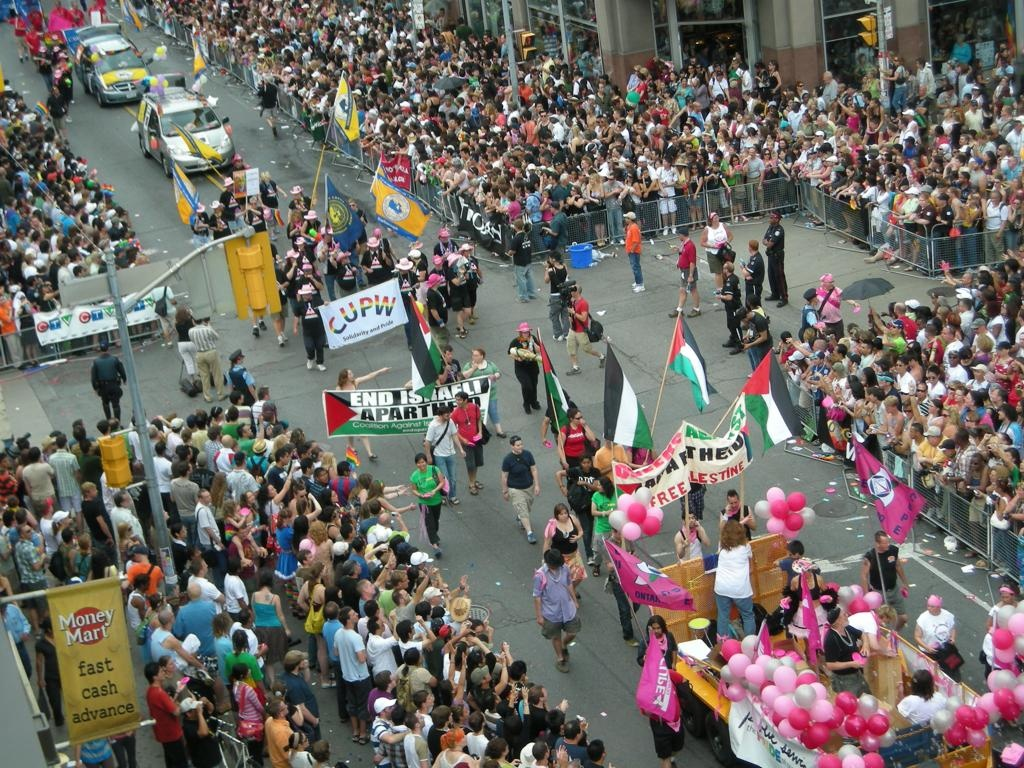human_face: (294, 731, 310, 749), (198, 558, 212, 578), (363, 580, 379, 596), (266, 482, 280, 500), (984, 432, 1000, 446), (296, 656, 310, 672), (351, 562, 365, 578), (200, 491, 214, 507), (155, 664, 167, 682), (178, 523, 190, 541), (406, 620, 416, 640), (190, 548, 204, 562), (317, 470, 331, 484), (926, 370, 938, 386), (240, 666, 252, 682), (246, 610, 258, 626), (384, 700, 394, 718), (382, 546, 392, 564), (574, 410, 584, 427), (650, 624, 662, 638), (998, 44, 1010, 58), (320, 744, 332, 758), (121, 492, 133, 506), (348, 608, 360, 622), (398, 573, 410, 587), (298, 489, 310, 503), (820, 155, 832, 169), (459, 705, 471, 719), (594, 479, 604, 495), (903, 404, 913, 420), (962, 390, 972, 406), (127, 548, 137, 564), (474, 624, 484, 640), (513, 438, 523, 454), (231, 503, 241, 519), (1002, 450, 1010, 468), (400, 590, 412, 602), (302, 552, 314, 564), (242, 425, 254, 437), (415, 458, 427, 470), (838, 610, 848, 624), (686, 514, 696, 528), (558, 508, 568, 522), (908, 425, 918, 439), (962, 415, 972, 429), (997, 408, 1007, 422), (988, 390, 998, 404), (916, 384, 926, 398), (972, 368, 982, 382), (947, 354, 957, 368), (940, 328, 950, 342), (924, 318, 934, 332), (889, 322, 899, 336), (856, 342, 866, 356), (830, 345, 840, 359), (988, 482, 998, 496), (278, 702, 288, 716), (165, 658, 175, 672), (188, 706, 198, 720), (141, 577, 151, 591), (414, 712, 424, 726), (386, 672, 396, 686), (317, 565, 327, 579), (420, 558, 430, 572), (328, 488, 338, 502), (186, 447, 196, 461), (344, 369, 354, 383), (719, 262, 729, 276), (924, 160, 934, 174), (715, 130, 725, 144), (637, 154, 647, 168), (375, 616, 385, 630), (728, 496, 738, 509), (926, 400, 936, 413), (710, 213, 720, 226), (880, 535, 888, 551), (1014, 399, 1022, 415), (1014, 308, 1022, 324), (998, 300, 1006, 316), (170, 582, 178, 598), (246, 490, 254, 506), (1000, 590, 1010, 602), (942, 446, 952, 458), (926, 434, 936, 446), (972, 324, 982, 336), (974, 272, 984, 284), (825, 278, 835, 290), (1, 456, 11, 468), (483, 670, 493, 682), (442, 412, 452, 424), (452, 397, 464, 407), (520, 332, 532, 342), (470, 351, 480, 363), (675, 231, 685, 243), (304, 268, 314, 280), (461, 248, 471, 260), (340, 254, 352, 264), (918, 197, 928, 209), (877, 154, 887, 166), (814, 116, 824, 128), (694, 148, 704, 160), (660, 158, 670, 170), (899, 390, 909, 402), (988, 470, 996, 484), (970, 457, 978, 471), (859, 370, 867, 384), (991, 192, 999, 206), (158, 593, 166, 607), (24, 526, 32, 540), (88, 482, 96, 496), (460, 732, 468, 746), (304, 447, 312, 461), (444, 350, 452, 364), (346, 201, 356, 212), (1018, 484, 1024, 502), (953, 433, 961, 446), (877, 378, 887, 388), (894, 362, 904, 372), (997, 348, 1007, 358), (962, 356, 972, 366), (956, 302, 966, 312), (934, 198, 944, 208), (124, 525, 134, 535), (423, 694, 433, 704), (214, 410, 224, 420), (301, 294, 311, 304), (30, 217, 40, 227), (860, 177, 870, 187), (845, 168, 855, 178), (790, 103, 800, 113), (597, 77, 607, 87), (238, 528, 248, 538), (60, 516, 70, 526), (583, 460, 591, 472), (1018, 456, 1024, 472), (953, 389, 961, 401), (865, 390, 873, 402), (842, 376, 850, 388), (960, 270, 968, 282), (928, 292, 936, 304), (812, 356, 820, 368), (831, 367, 839, 379), (957, 172, 965, 184), (967, 158, 975, 170), (996, 145, 1004, 157), (965, 195, 973, 207), (999, 104, 1007, 116), (992, 122, 1000, 134), (938, 74, 946, 86), (168, 610, 176, 622), (330, 507, 338, 519), (266, 424, 274, 436), (442, 233, 450, 245), (133, 248, 141, 260), (856, 159, 864, 171), (778, 150, 786, 162), (762, 149, 770, 161), (869, 120, 877, 132), (684, 144, 692, 156), (718, 120, 726, 132), (712, 102, 720, 114), (690, 76, 698, 88), (568, 186, 576, 198), (616, 119, 624, 131), (597, 82, 605, 94), (546, 142, 554, 154), (468, 136, 476, 148), (884, 404, 892, 415), (624, 214, 632, 225), (322, 232, 330, 243), (942, 408, 948, 422), (543, 742, 549, 756), (541, 687, 547, 701), (672, 134, 678, 148), (787, 549, 795, 559), (948, 388, 956, 398), (1002, 281, 1010, 291), (848, 328, 858, 336), (812, 294, 820, 304), (1012, 198, 1020, 208), (992, 178, 1000, 188), (956, 136, 966, 144), (971, 102, 979, 112), (944, 62, 952, 72), (892, 56, 900, 66), (869, 98, 877, 108), (822, 72, 830, 82), (348, 526, 358, 534), (347, 515, 355, 525), (236, 394, 244, 404), (316, 452, 324, 462), (312, 442, 320, 452), (569, 288, 577, 298), (548, 254, 556, 264), (226, 183, 234, 193), (234, 158, 242, 168), (78, 269, 88, 277), (19, 228, 27, 238), (10, 198, 18, 208), (2, 161, 10, 171), (51, 86, 59, 96), (893, 168, 901, 178), (808, 150, 816, 160), (798, 140, 806, 150), (846, 86, 854, 96), (766, 60, 774, 70), (768, 104, 776, 114), (706, 142, 714, 152), (669, 72, 677, 82), (548, 204, 556, 214), (578, 160, 586, 170), (570, 171, 578, 181), (610, 110, 618, 120), (594, 150, 602, 160), (609, 148, 617, 158), (536, 143, 544, 153), (458, 150, 466, 160), (489, 152, 497, 162), (448, 118, 456, 128), (535, 102, 543, 112), (306, 80, 314, 90), (364, 112, 372, 122), (927, 603, 935, 613), (434, 260, 442, 270), (1002, 260, 1008, 272), (812, 341, 818, 353), (896, 118, 902, 130), (902, 112, 908, 124), (502, 740, 508, 752), (250, 198, 256, 210), (687, 152, 693, 164), (642, 168, 648, 180), (682, 125, 688, 137), (540, 172, 546, 184), (538, 154, 544, 166), (485, 145, 491, 157), (282, 452, 288, 464), (264, 389, 270, 401), (909, 172, 915, 184), (1018, 334, 1024, 346), (396, 57, 402, 68), (981, 154, 989, 162), (986, 102, 994, 110), (998, 78, 1006, 86), (972, 88, 980, 96), (955, 36, 963, 44), (904, 140, 912, 148), (943, 108, 951, 116), (368, 244, 376, 252), (1, 242, 9, 250), (14, 176, 22, 184), (924, 180, 932, 188), (890, 144, 898, 152), (778, 140, 786, 148), (764, 134, 772, 142), (744, 115, 752, 123), (690, 164, 698, 172), (596, 118, 604, 126), (544, 174, 552, 182), (402, 110, 410, 118), (468, 35, 476, 43), (234, 28, 242, 36), (1006, 158, 1012, 168), (1016, 122, 1022, 132), (962, 96, 968, 106), (976, 59, 982, 69), (918, 86, 924, 96), (942, 158, 948, 168), (12, 513, 18, 523), (30, 174, 36, 184), (792, 146, 798, 156), (749, 150, 755, 160), (732, 156, 738, 166), (810, 86, 816, 96), (802, 92, 808, 102), (798, 80, 804, 90), (838, 82, 844, 92), (786, 97, 792, 107), (786, 86, 792, 96), (696, 102, 702, 112), (652, 159, 658, 169), (700, 132, 706, 142), (685, 116, 691, 126), (716, 73, 722, 83), (730, 60, 736, 70), (714, 62, 720, 72), (648, 102, 654, 112), (540, 112, 546, 122), (541, 190, 547, 200), (469, 154, 475, 164), (466, 169, 472, 179), (464, 107, 470, 117), (532, 78, 538, 88), (532, 70, 538, 80), (335, 44, 341, 54), (358, 64, 364, 74), (246, 18, 252, 28), (626, 109, 634, 116), (0, 286, 5, 296), (916, 320, 922, 328), (740, 316, 746, 324), (1012, 181, 1018, 189), (945, 190, 951, 198), (972, 132, 978, 140), (967, 65, 973, 73), (946, 89, 952, 97), (915, 60, 921, 68), (860, 55, 866, 63), (952, 148, 958, 156), (934, 146, 940, 154), (912, 125, 918, 133), (50, 442, 56, 450), (294, 192, 300, 200), (214, 206, 220, 214), (64, 256, 70, 264), (6, 280, 12, 288), (100, 224, 106, 232), (119, 250, 125, 258), (826, 159, 832, 167), (820, 148, 826, 156), (796, 135, 802, 143), (802, 114, 808, 122), (740, 94, 746, 102), (713, 152, 719, 160), (648, 150, 654, 158), (682, 77, 686, 89), (688, 65, 694, 73), (703, 48, 709, 56), (678, 69, 684, 77), (662, 66, 668, 74), (636, 124, 642, 132), (656, 100, 662, 108), (581, 86, 587, 94), (560, 84, 566, 92), (496, 190, 502, 198), (508, 158, 514, 166), (520, 158, 526, 166), (444, 98, 450, 106), (473, 69, 479, 77), (442, 148, 448, 156), (380, 110, 386, 118), (364, 102, 370, 110), (483, 34, 489, 42), (288, 58, 294, 66), (438, 8, 444, 16), (407, 16, 413, 24), (328, 80, 334, 88), (312, 97, 318, 105), (234, 14, 240, 22), (284, 9, 290, 17), (263, 79, 269, 87), (294, 50, 300, 58), (472, 94, 478, 102), (516, 136, 522, 144), (814, 134, 820, 142), (587, 97, 593, 105), (690, 57, 696, 64), (810, 103, 816, 110), (296, 242, 302, 249), (846, 96, 850, 106), (695, 64, 699, 74), (636, 136, 640, 146), (614, 138, 618, 148), (430, 46, 434, 56), (954, 66, 960, 72), (904, 70, 910, 76), (744, 131, 750, 137), (736, 114, 742, 120), (444, 44, 450, 50), (257, 29, 263, 35), (219, 26, 225, 32), (263, 177, 269, 183), (503, 61, 509, 67), (996, 271, 1000, 279), (860, 94, 864, 102), (868, 72, 872, 80), (160, 552, 164, 560), (32, 275, 36, 283), (848, 104, 852, 112), (684, 43, 688, 51), (664, 92, 668, 100), (608, 86, 612, 94), (518, 78, 522, 86), (376, 24, 380, 32), (352, 74, 356, 82), (436, 114, 440, 122), (462, 40, 466, 48), (439, 34, 443, 42), (436, 278, 440, 286), (500, 125, 506, 130), (756, 63, 760, 70), (429, 56, 433, 63), (1019, 94, 1023, 100), (838, 150, 842, 156), (838, 144, 842, 150), (550, 88, 554, 94), (400, 36, 404, 42), (386, 128, 390, 134), (440, 137, 444, 143), (438, 122, 442, 128), (343, 38, 347, 44), (480, 126, 484, 132), (382, 32, 386, 38), (492, 58, 496, 63), (862, 77, 864, 81)
